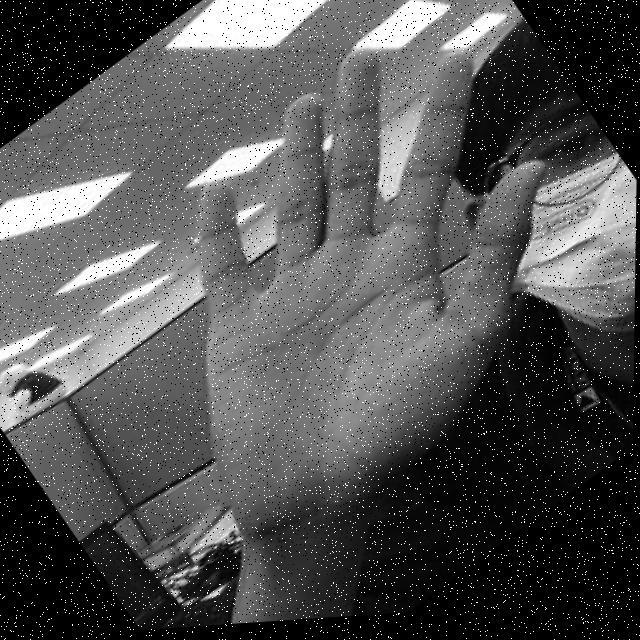no-gloves: (49, 0, 640, 587)
